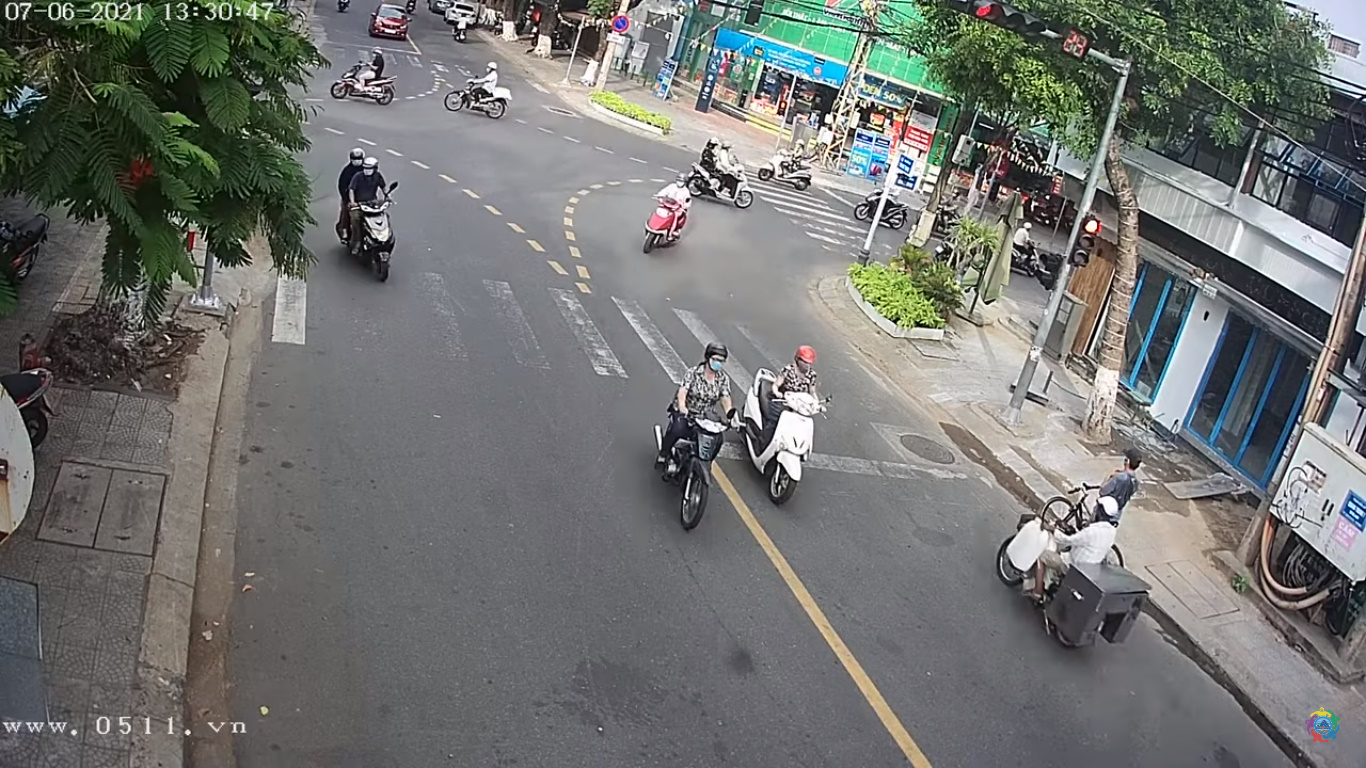motorbike: (648, 338, 742, 523), (744, 337, 830, 513), (333, 154, 410, 282)
